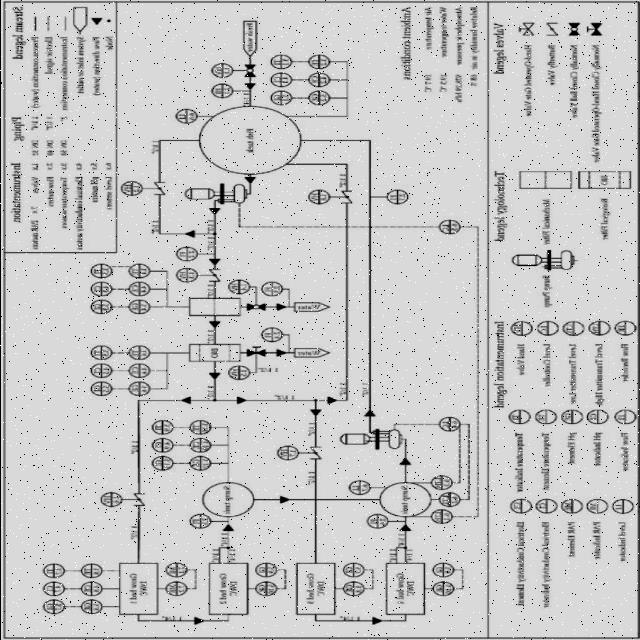Butterfly Valve: (206, 268, 222, 284), (150, 181, 166, 197), (307, 445, 323, 460), (132, 492, 146, 507), (339, 190, 352, 204)
